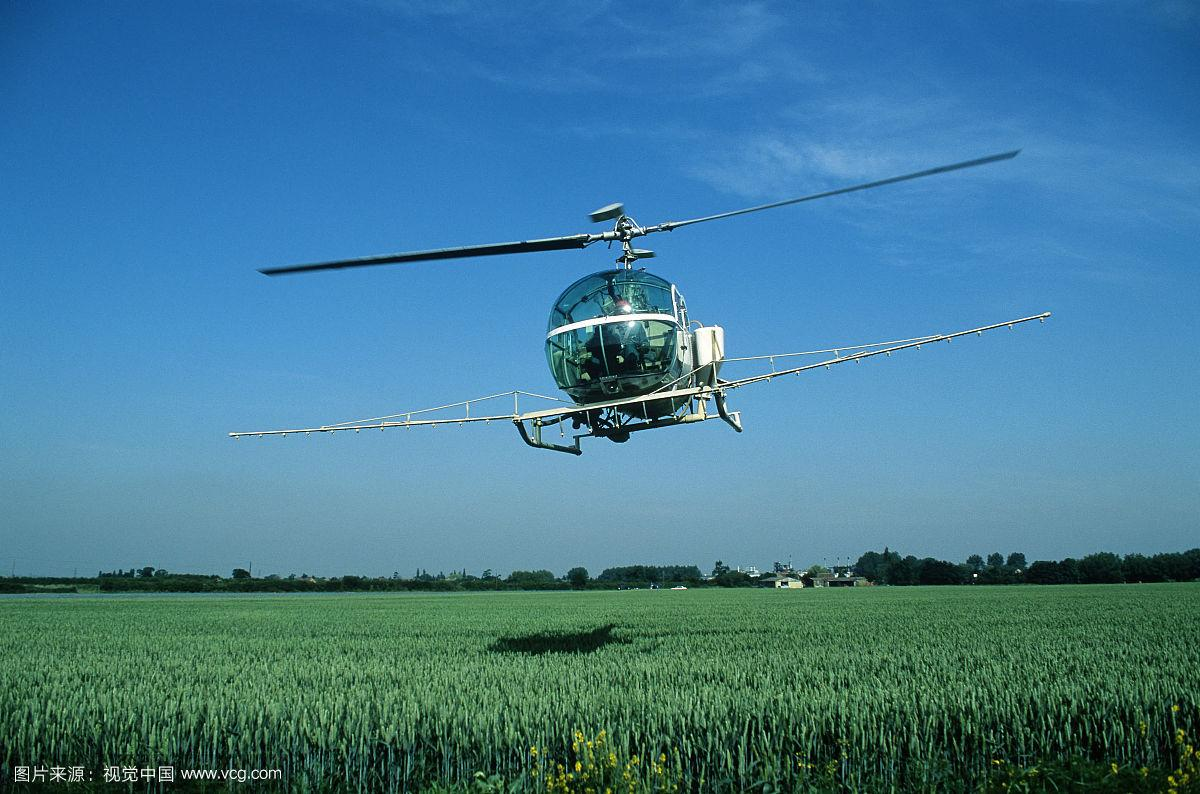airplane: (220, 126, 1066, 462)
